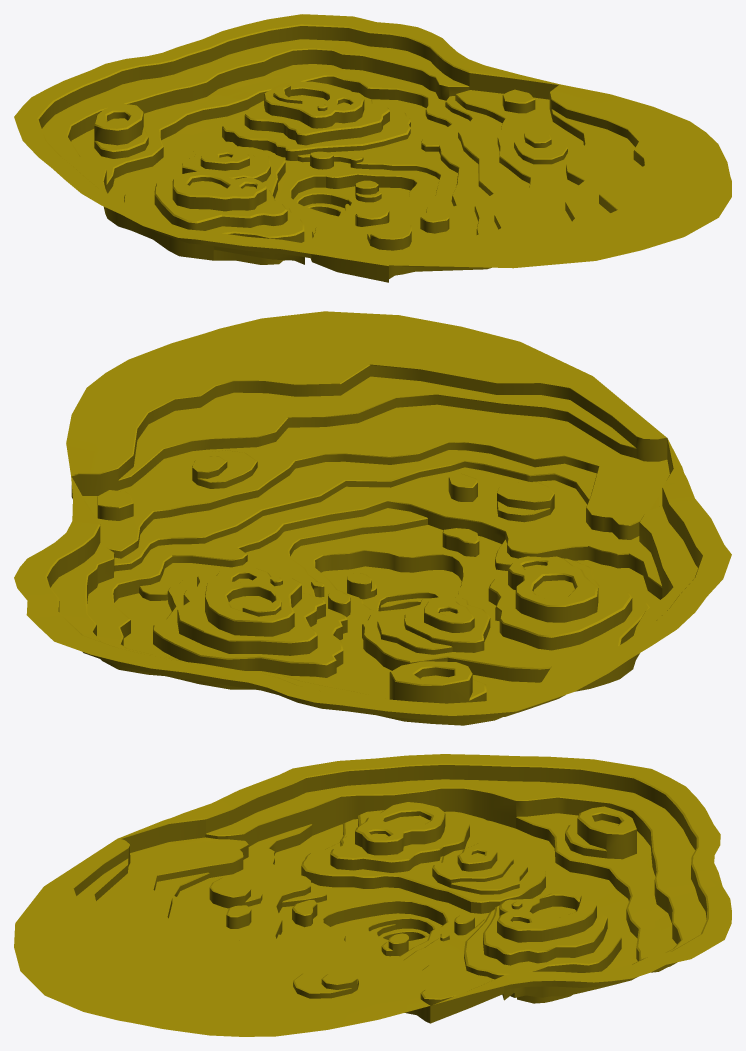
File: enviroment base 5.fbx
3 views of the same model, one above another, from view 1: azimuth 30°, elevation 25°; view 2: azimuth 150°, elevation 25°; view 3: azimuth 270°, elevation 25° (orthographic). The views are drawn at different scales.
Parts seen in each view (by area): view 1: pCylinder1; view 2: pCylinder1; view 3: pCylinder1.
Boxes of the visible parts, x1=… form: pCylinder1: x1=14, y1=14, x2=731, y2=282; pCylinder1: x1=14, y1=311, x2=731, y2=725; pCylinder1: x1=14, y1=754, x2=731, y2=1036.
Size of the model in its own units: 212 by 28.56 by 228.
